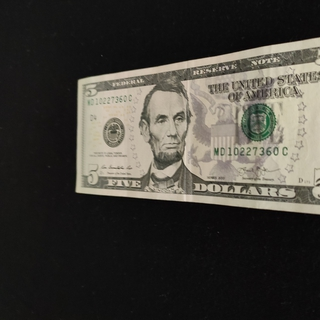5USDFront: (75, 29, 320, 218)
